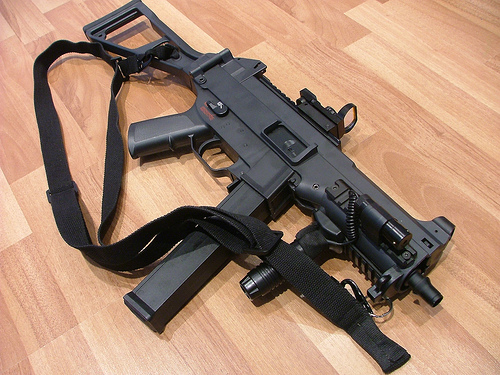rifle: (32, 1, 470, 362)
